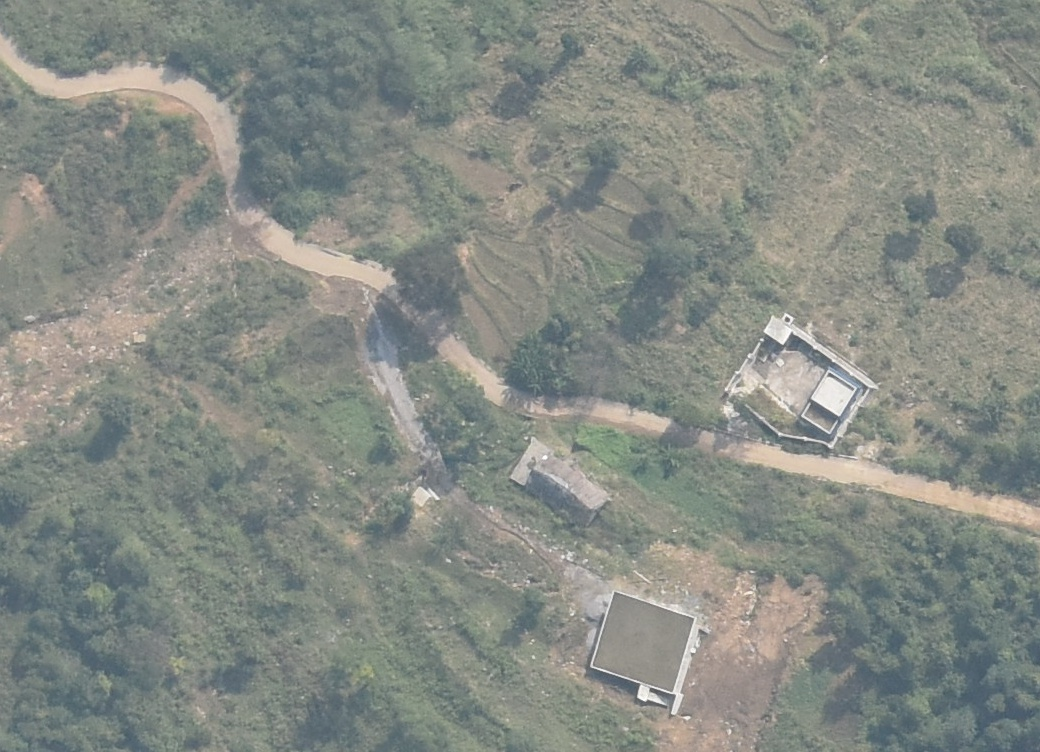building: (589, 585, 699, 701), (529, 451, 612, 528), (811, 365, 860, 435), (500, 438, 559, 485), (762, 316, 803, 344)
